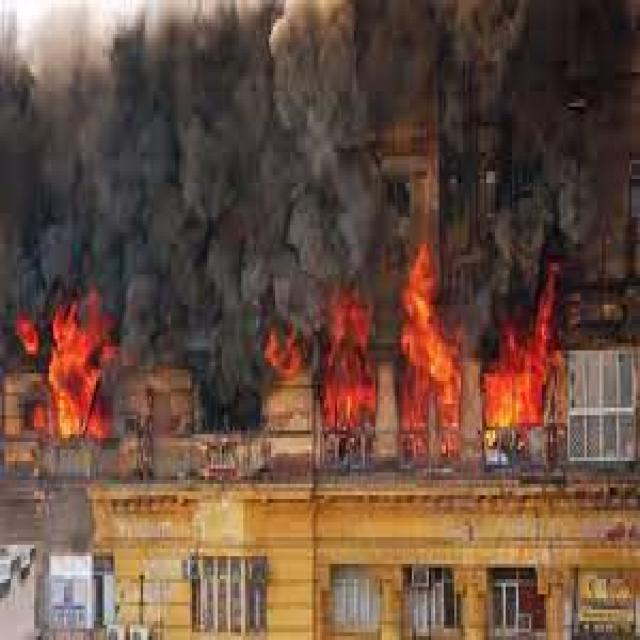fire: (260, 286, 378, 446), (390, 236, 468, 469), (478, 259, 563, 472), (15, 293, 117, 446)
smoke: (2, 4, 263, 289), (384, 4, 640, 255), (264, 4, 382, 289), (121, 270, 262, 442)
